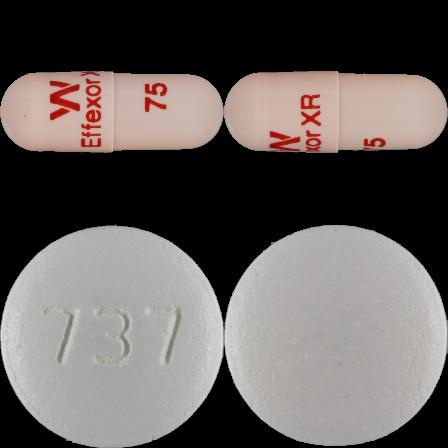45865-647: (0, 0, 224, 224)
